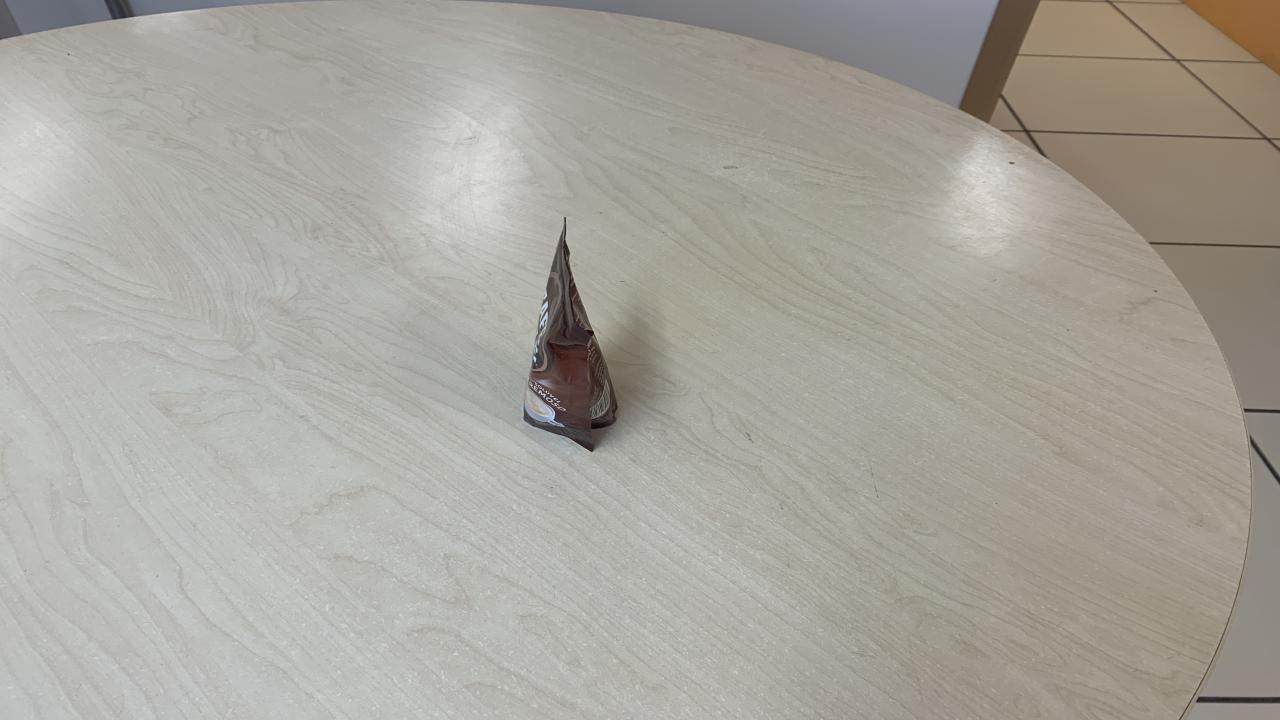Coffee-Pantry_Items: (523, 225, 619, 449)
